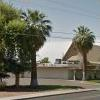Palm tree: (18, 7, 55, 94)
